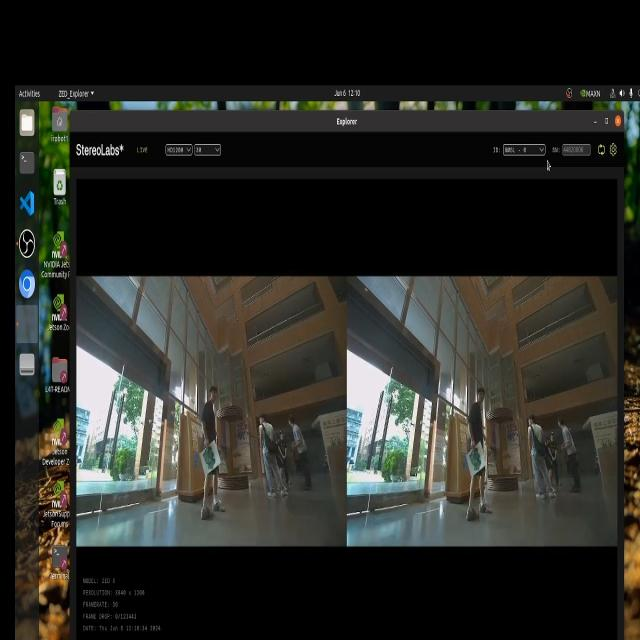green: (467, 443, 482, 472), (207, 446, 220, 474)
